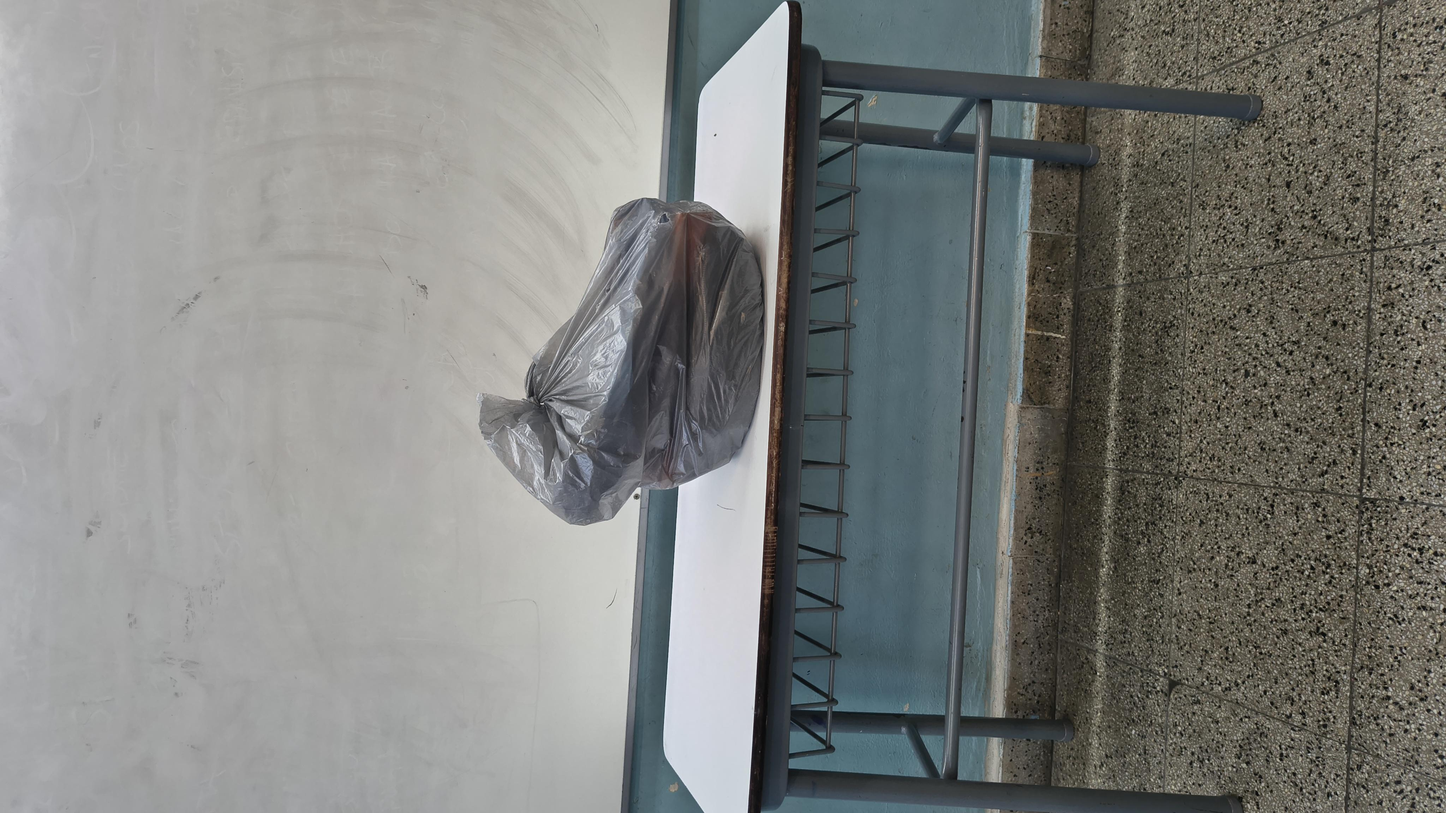Garbage: (439, 234, 1186, 447)
